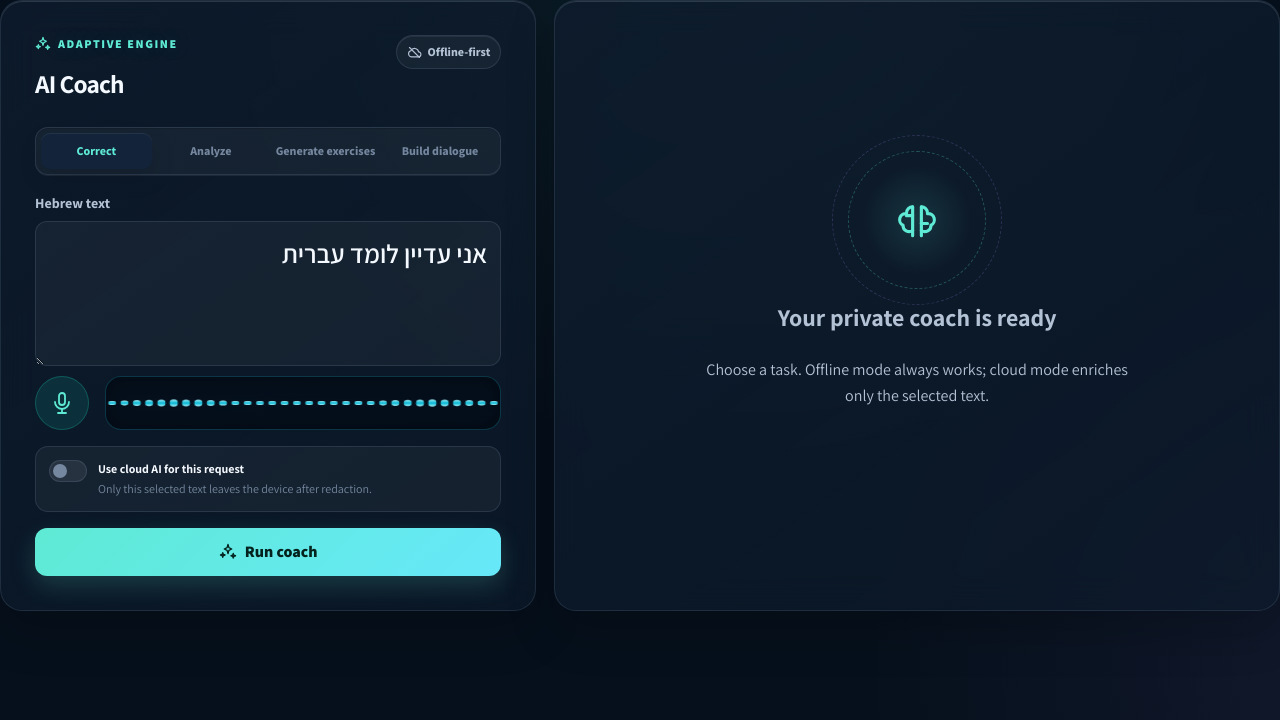
Test: AICoach › renders a structured offline correction
Click the button "Run coach" at (268, 552), box x1=35 y1=528 x2=501 y2=576
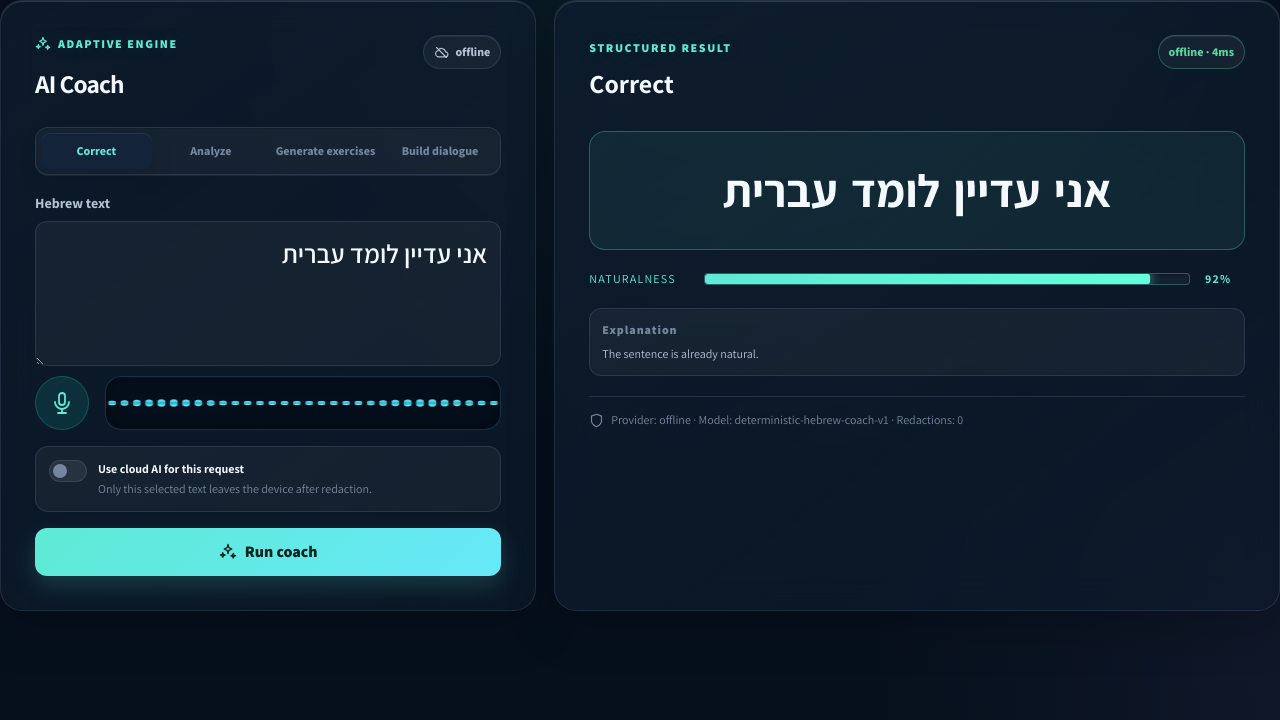
Expected: the text "The sentence is already natural." is shown, x1=602 y1=346 x2=759 y2=361
Expected: the text "92%" is shown, x1=1205 y1=271 x2=1231 y2=286
Expected: the text "offline · 4ms" is shown, x1=1158 y1=35 x2=1245 y2=69
